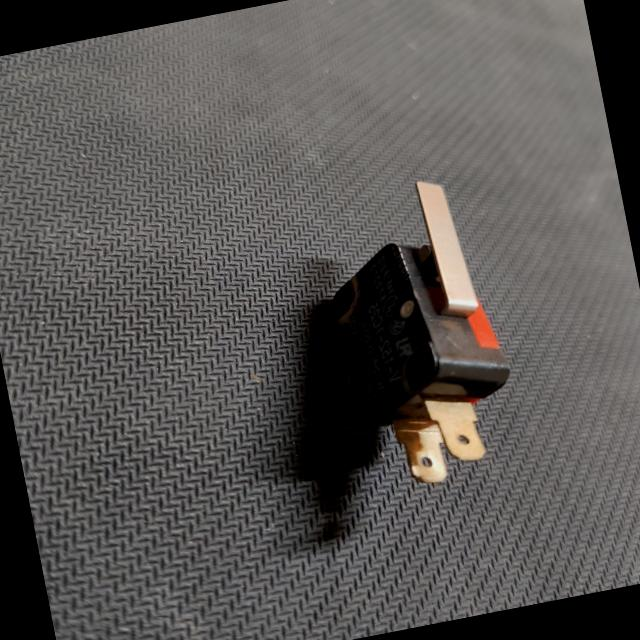switch: (284, 157, 560, 509)
